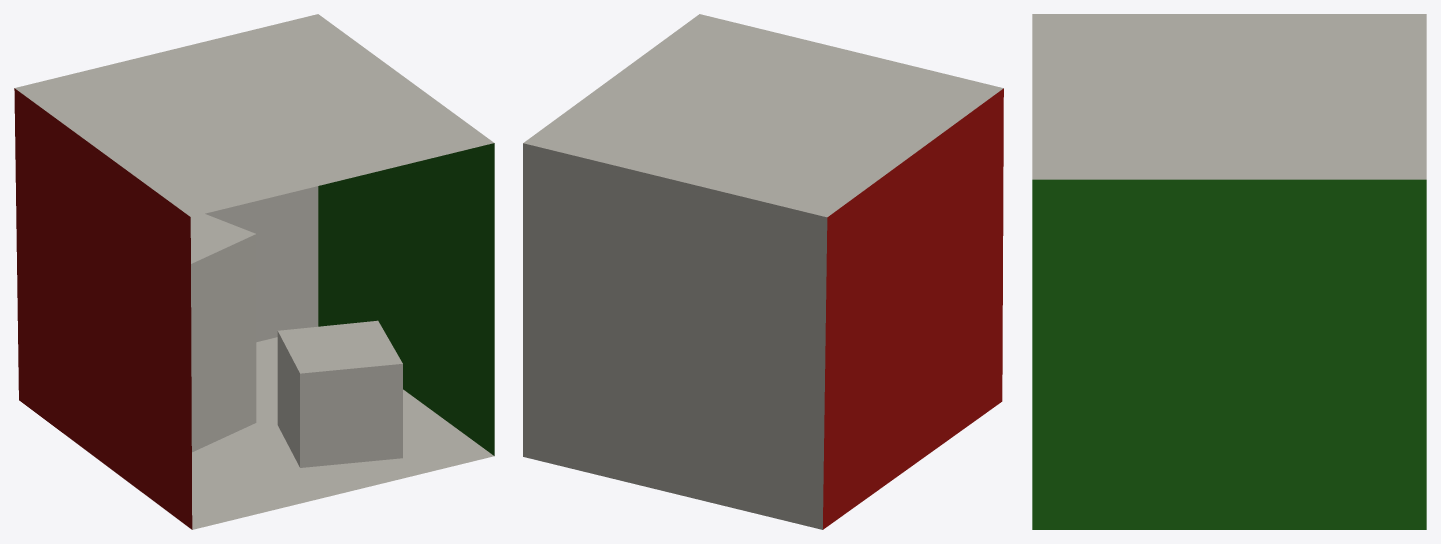
The model's file is CornellBox.obj.
The picture shows the model from 3 angles, left to right: view 1: azimuth 30°, elevation 25°; view 2: azimuth 150°, elevation 25°; view 3: azimuth 270°, elevation 25°; orthographic projection. The views are drawn at different scales.
Size of the model in its own units: 1.99 by 1.96 by 2.
